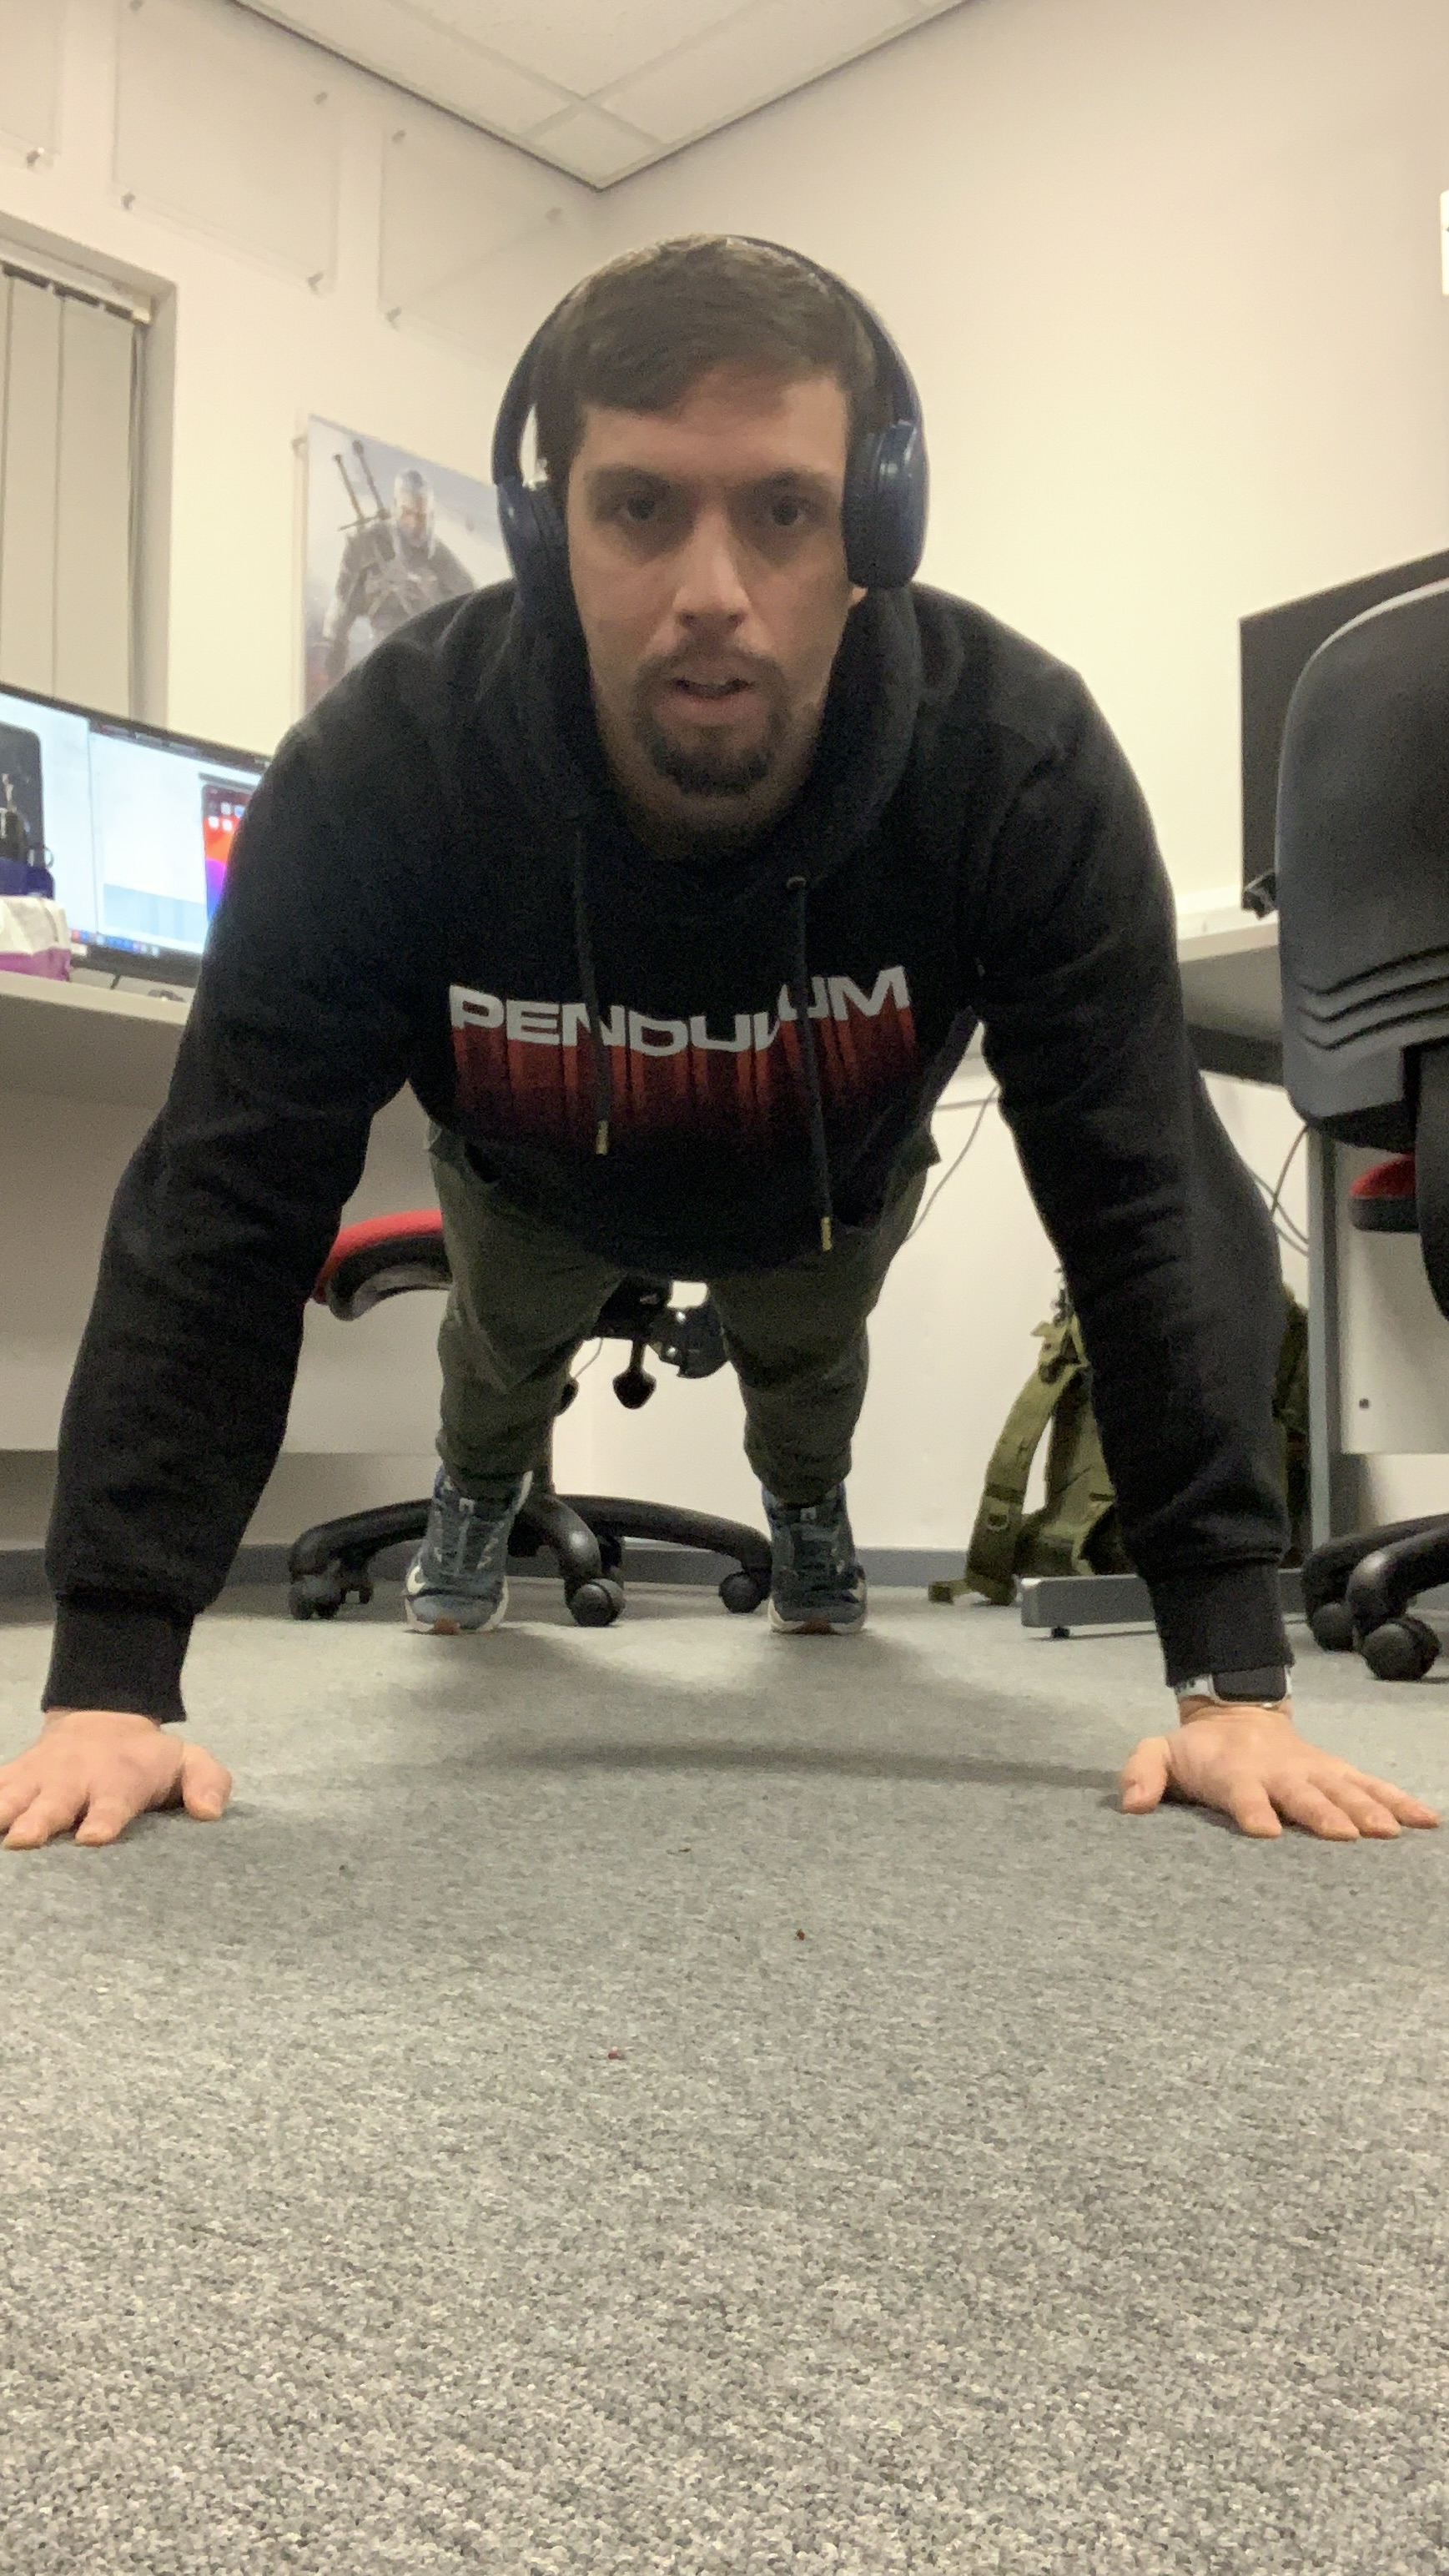Start: (11, 228, 1449, 1882)
